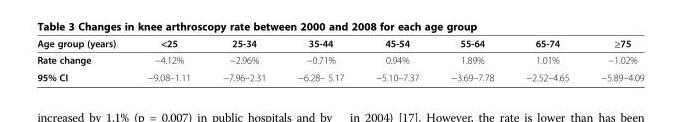table: (36, 37, 643, 82)
table column: (36, 37, 130, 82), (281, 37, 359, 82), (130, 37, 206, 82), (206, 37, 281, 82), (359, 37, 434, 82), (434, 37, 509, 82), (509, 37, 584, 82), (584, 37, 643, 82)
table column header: (36, 37, 643, 51)
table row: (36, 51, 643, 68), (36, 37, 643, 51), (36, 68, 643, 82)
